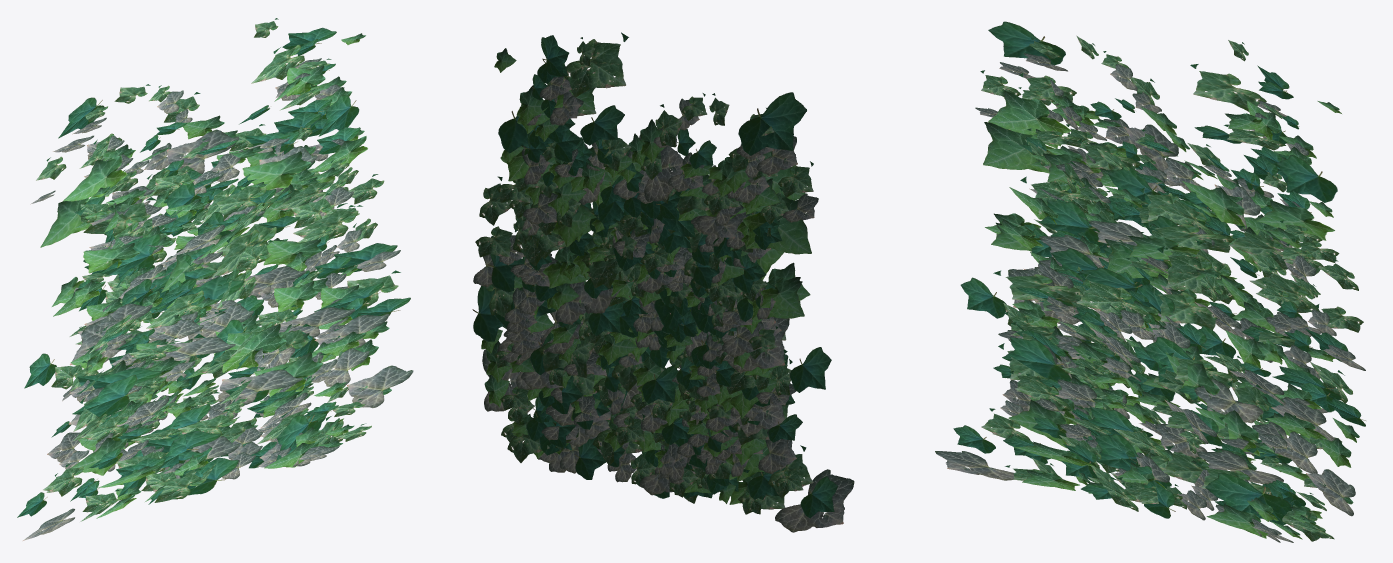
File: enredadera.glb
The picture shows the model from 3 angles, left to right: view 1: azimuth 30°, elevation 25°; view 2: azimuth 150°, elevation 25°; view 3: azimuth 330°, elevation 25°; orthographic projection. The views are drawn at different scales.
Parts seen in each view (by area): view 1: lejos, cerca; view 2: cerca, lejos; view 3: lejos, cerca.
Boxes of the visible parts, x1,y1,x2,y2 form: lejos: (23,45,413,540); cerca: (17,18,391,517); cerca: (475,35,837,518); lejos: (472,32,854,532); lejos: (935,21,1365,542); cerca: (953,35,1363,542).
Size of the model in its own units: 2.89 by 3.14 by 0.4852.
1 material, 1 textured.
